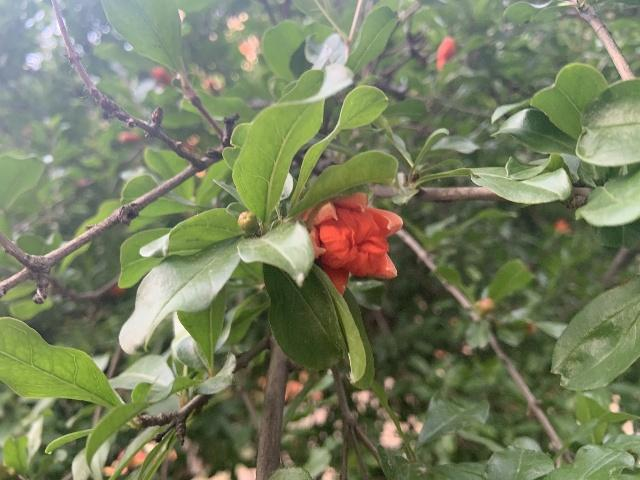bud: (436, 36, 456, 72), (237, 211, 258, 236)
flower: (301, 191, 403, 294)
